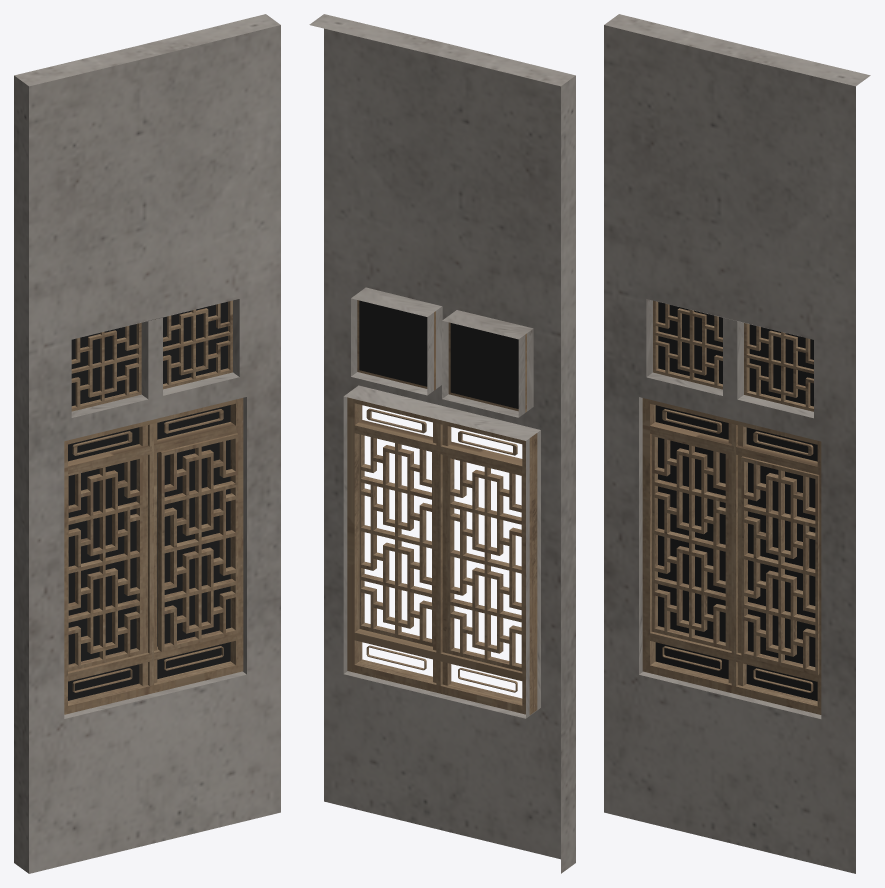
The model's file is Wall_2.fbx.
3 views of the same model, side by side, from view 1: azimuth 30°, elevation 25°; view 2: azimuth 150°, elevation 25°; view 3: azimuth 330°, elevation 25° (orthographic).
Parts seen in each view (by area): view 1: Wall_2; view 2: Wall_2; view 3: Wall_2.
Part boxes in pixels (bbox=[...]): Wall_2: bbox=[14, 14, 280, 873]; Wall_2: bbox=[309, 14, 575, 873]; Wall_2: bbox=[604, 14, 870, 873].
Size of the model in its own units: 117 by 350 by 12.53.
